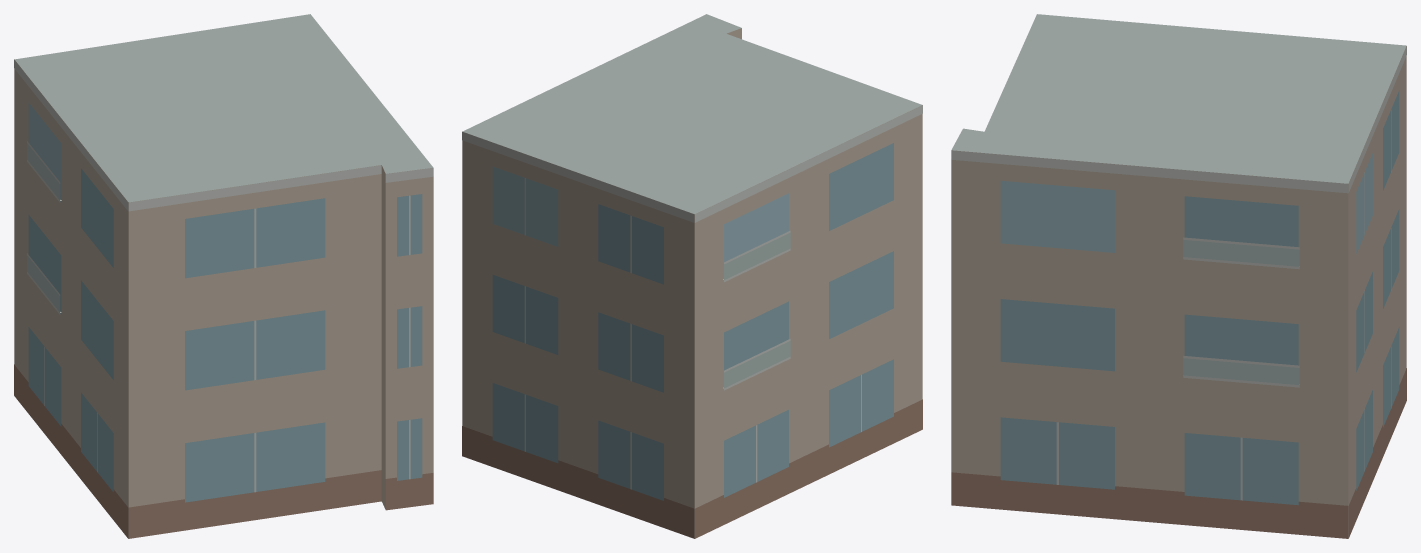
File: survey-upis-32541230.glb
3 renders of one model, left to right at view 1: azimuth 30°, elevation 25°; view 2: azimuth 150°, elevation 25°; view 3: azimuth 270°, elevation 25°, orthographic. The views are drawn at different scales.
Parts seen in each view (by area): view 1: survey-upis-32541230.tmp; view 2: survey-upis-32541230.tmp; view 3: survey-upis-32541230.tmp.
Part boxes in pixels (<box>): survey-upis-32541230.tmp: <box>14,14,433,538</box>; survey-upis-32541230.tmp: <box>462,14,922,538</box>; survey-upis-32541230.tmp: <box>951,14,1406,538</box>.
Size of the model in its own units: 9.39 by 9.15 by 10.65.
